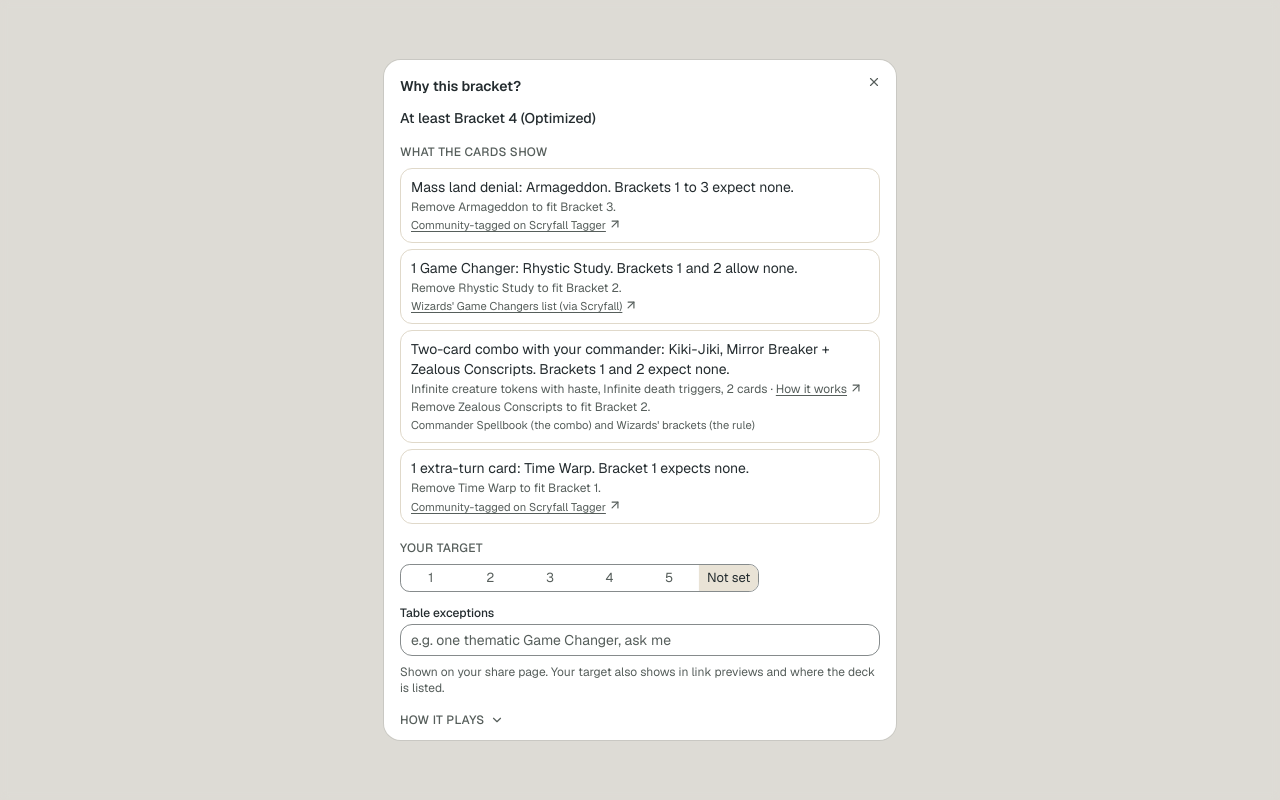
Test case: TARGET-CHANGES — a pick of Your target says what it did › set (Not set to 3): it pops in under the choice: the title with Undo, then Your cards didn't change, the list against it, every row, the tools, where it shows
Click the button "3": [550, 578] box [520,565,580,591]
(page scrolled)
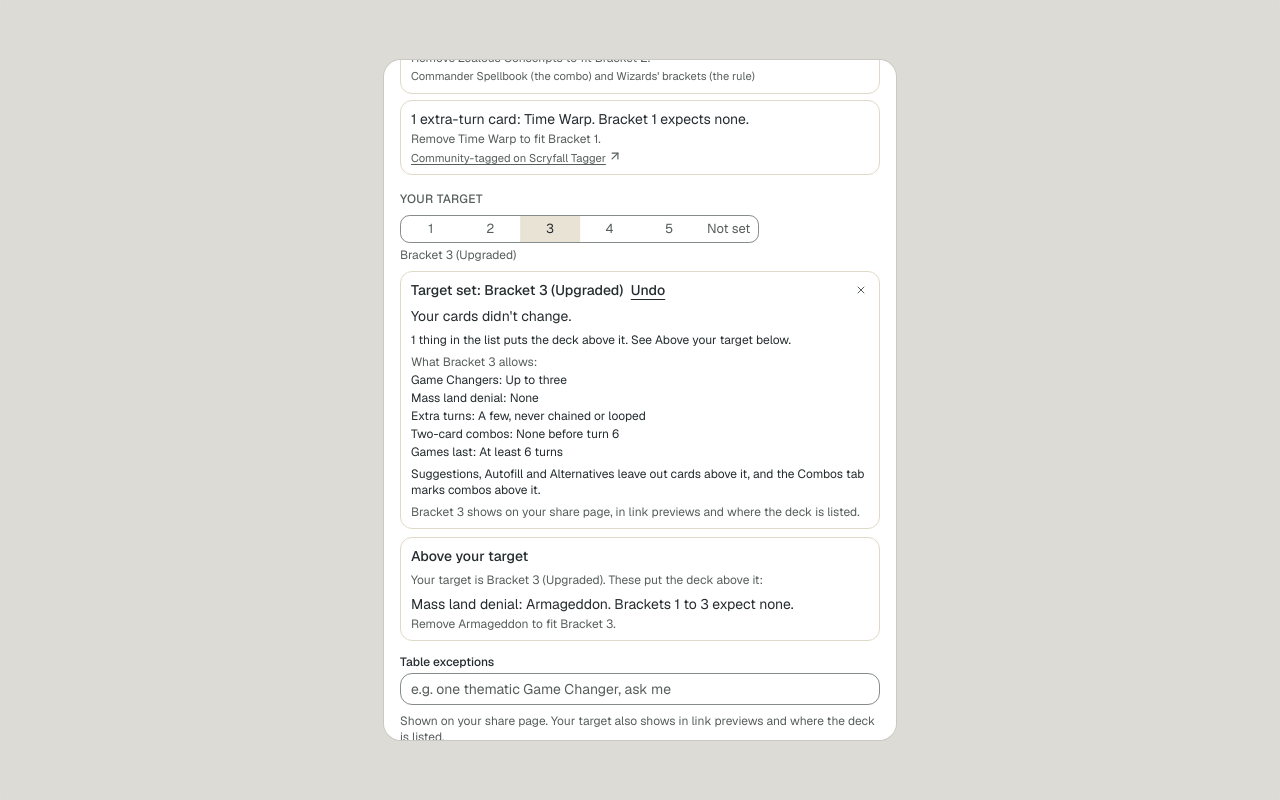
Check: the text "What Bracket 3 allows:" is shown, box [411,354,537,370]
